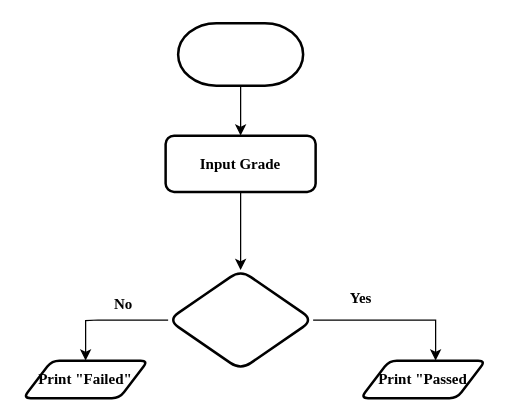
This 508x420 diagram has some shape labels left out. The shapes that lost their labels are listed below. From the top down, each one's centre as x and y in pixels, then its label:
At pixel 240 53: "Start".
At pixel 240 319: "Grade >=75%".
